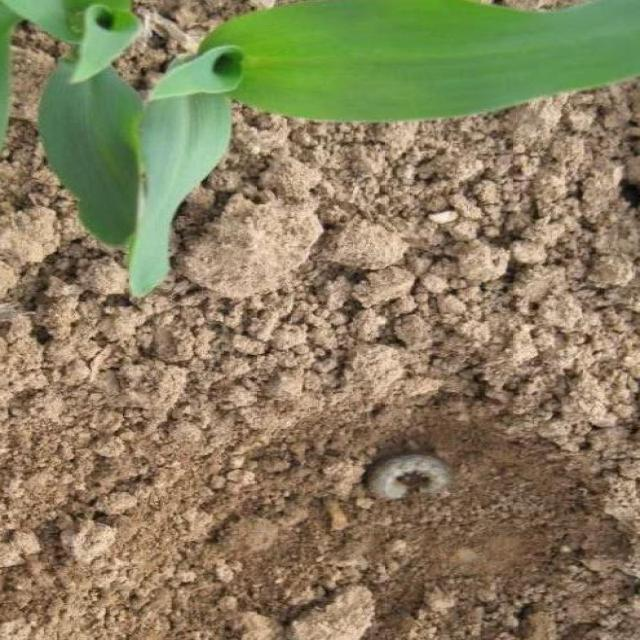black cutworm: (363, 451, 455, 513)
